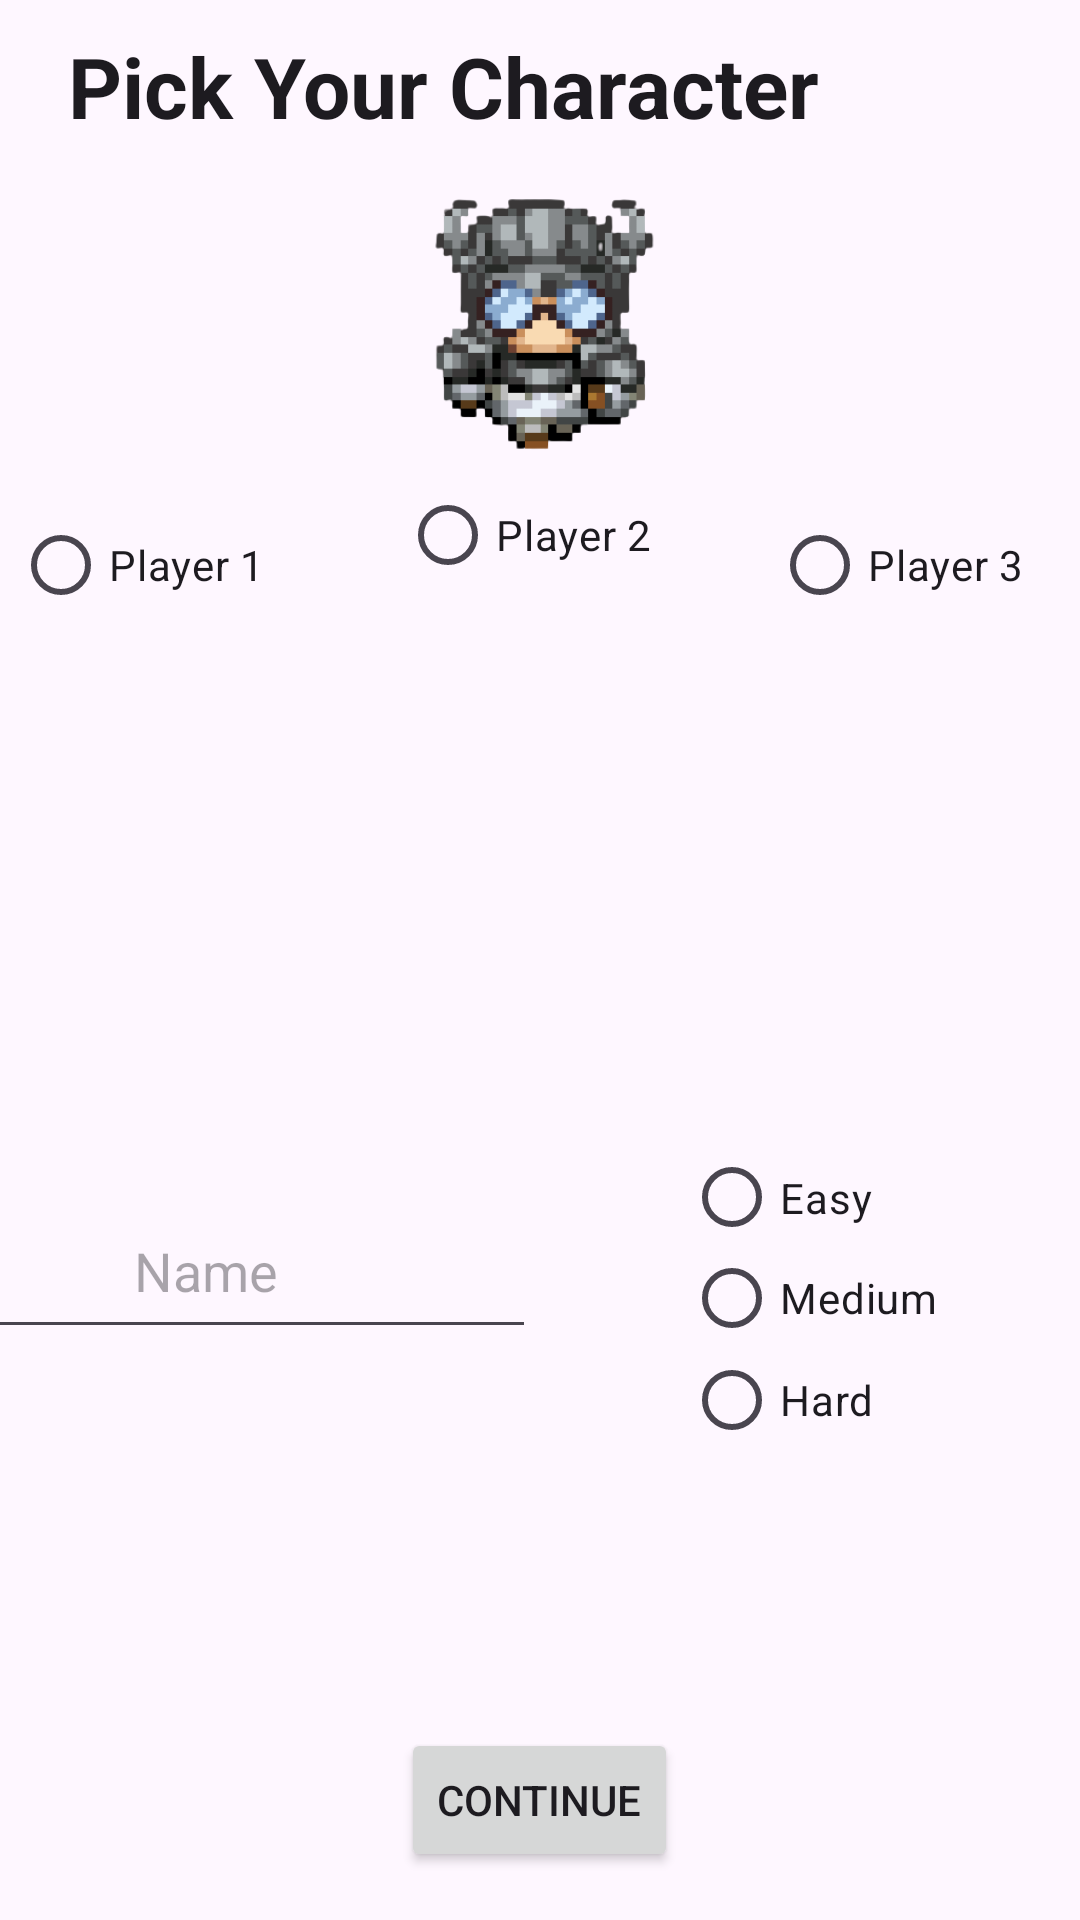

Named icons in this screenshot (1080*1920) and their bounding boxes, (x1, y1, x2, y2):
sprite: (435, 199, 654, 449)
